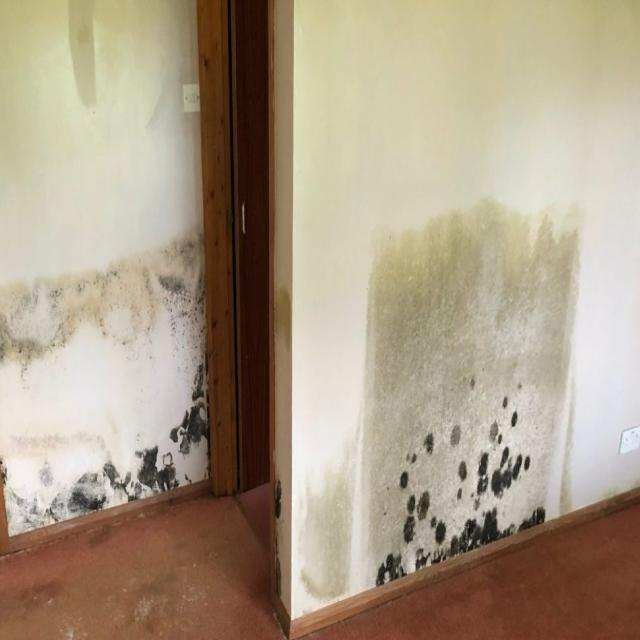dampness: (305, 204, 584, 601), (0, 225, 206, 533)
